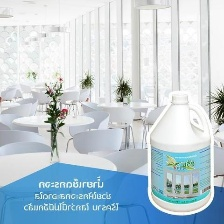cleaning_solution: (148, 91, 215, 215)
